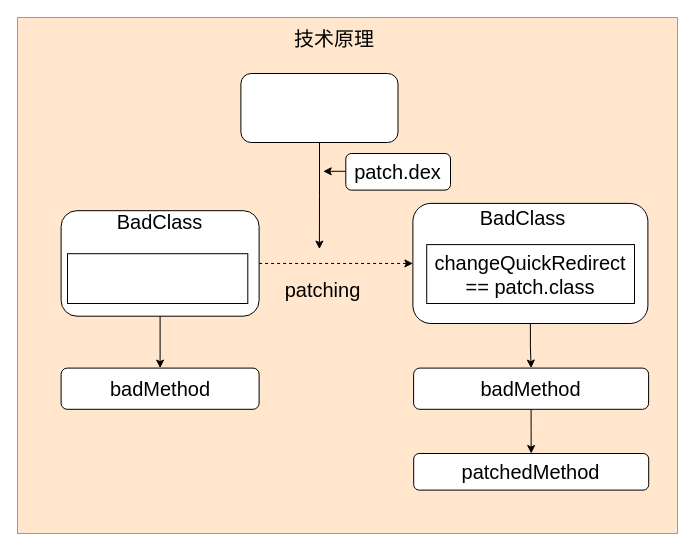
Some shapes in this 695 by 551 pixel diagram are drawn without their labels. The shapes that lost their labels are listed below. From the top down, each one's centre as x and y in pixels, then its label:
the point at 319,107: DexClassLoader
the point at 157,278: changeQuickRedirect == null
